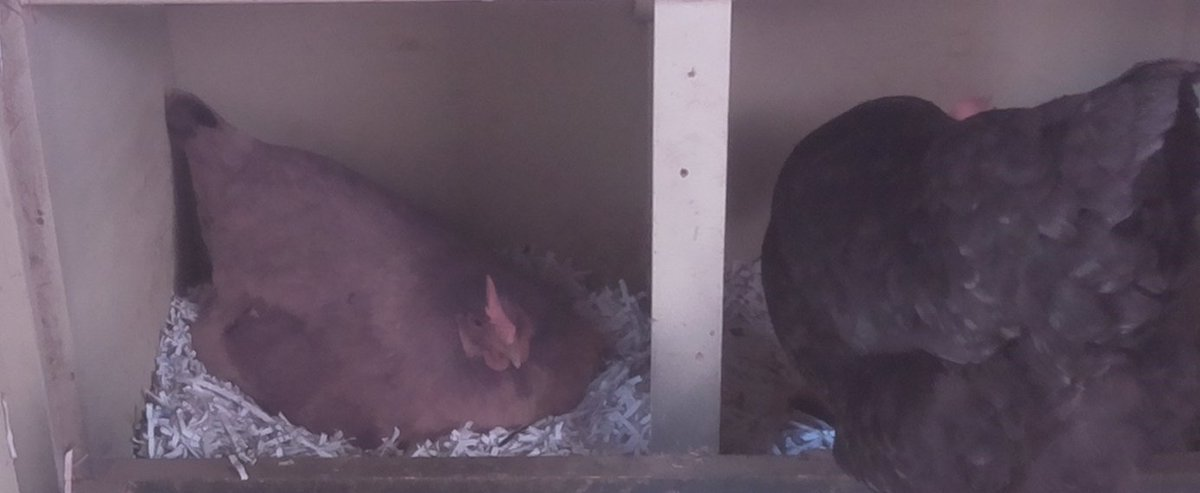hen: (755, 52, 1200, 492), (172, 116, 606, 442)
